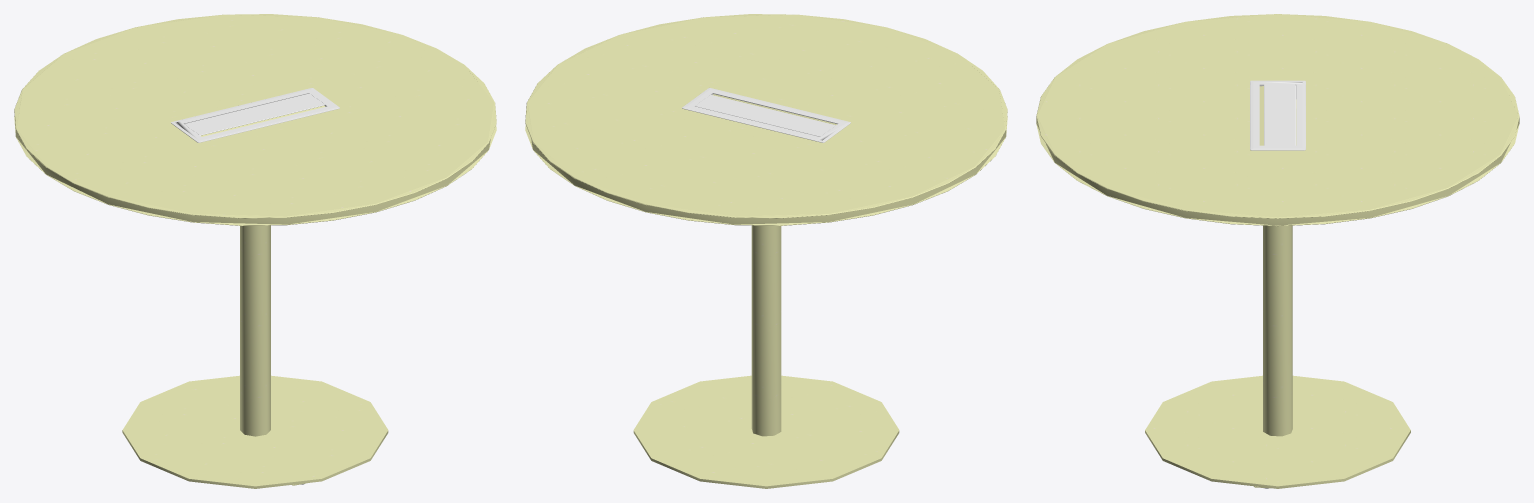
3 views of the same model, side by side, from view 1: azimuth 30°, elevation 25°; view 2: azimuth 150°, elevation 25°; view 3: azimuth 270°, elevation 25° (orthographic).
Parts seen in each view (by area): view 1: 7b731672-34e8-4f38-8146-830b1a5ea7d3, d0a4dc3c-3edf-43ad-ae34-5bfe0eb95981, 6e70ccff-cc53-4e95-a0fa-9b83dd88936c, e52f6ede-8717-47cc-8098-d0dc3786d9b2; view 2: 7b731672-34e8-4f38-8146-830b1a5ea7d3, d0a4dc3c-3edf-43ad-ae34-5bfe0eb95981, 6e70ccff-cc53-4e95-a0fa-9b83dd88936c, e52f6ede-8717-47cc-8098-d0dc3786d9b2; view 3: 7b731672-34e8-4f38-8146-830b1a5ea7d3, d0a4dc3c-3edf-43ad-ae34-5bfe0eb95981, 6e70ccff-cc53-4e95-a0fa-9b83dd88936c, e52f6ede-8717-47cc-8098-d0dc3786d9b2.
Boxes of the visible parts, left/top/right/bottom form: 7b731672-34e8-4f38-8146-830b1a5ea7d3: left=16, top=14, right=494, bottom=216; d0a4dc3c-3edf-43ad-ae34-5bfe0eb95981: left=14, top=105, right=496, bottom=488; 6e70ccff-cc53-4e95-a0fa-9b83dd88936c: left=14, top=14, right=496, bottom=224; e52f6ede-8717-47cc-8098-d0dc3786d9b2: left=171, top=88, right=339, bottom=142; 7b731672-34e8-4f38-8146-830b1a5ea7d3: left=527, top=14, right=1005, bottom=216; d0a4dc3c-3edf-43ad-ae34-5bfe0eb95981: left=525, top=94, right=1007, bottom=488; 6e70ccff-cc53-4e95-a0fa-9b83dd88936c: left=525, top=14, right=1007, bottom=224; e52f6ede-8717-47cc-8098-d0dc3786d9b2: left=682, top=88, right=850, bottom=142; 7b731672-34e8-4f38-8146-830b1a5ea7d3: left=1037, top=14, right=1518, bottom=217; d0a4dc3c-3edf-43ad-ae34-5bfe0eb95981: left=1036, top=86, right=1519, bottom=488; 6e70ccff-cc53-4e95-a0fa-9b83dd88936c: left=1036, top=14, right=1519, bottom=225; e52f6ede-8717-47cc-8098-d0dc3786d9b2: left=1250, top=80, right=1305, bottom=150.
Size of the model in its own units: 1 by 0.7416 by 1.
Materials: 3 (2 with a texture image).
